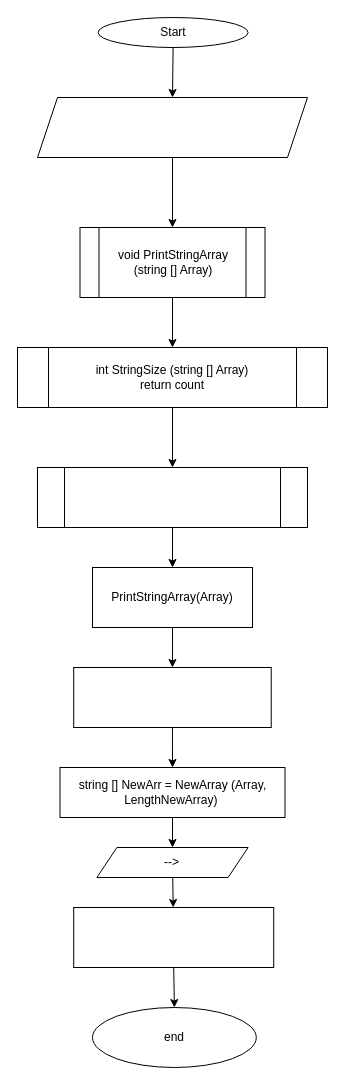
Some shapes in this 345 by 1085 pixel diagram are drawn without their labels. Here are the shapes that lost their labels. From the top down, the box of each, then its label:
(36, 96, 308, 158): string[] Array = ["helo", "2", "world", ":-)"]
(36, 466, 308, 528): string [] NewArray (string [] Array, int SizeNewArr)
(73, 666, 271, 728): int LengthNewArray = StringSize(Array)
(73, 906, 274, 968): PrintStringArray(NewArr)
